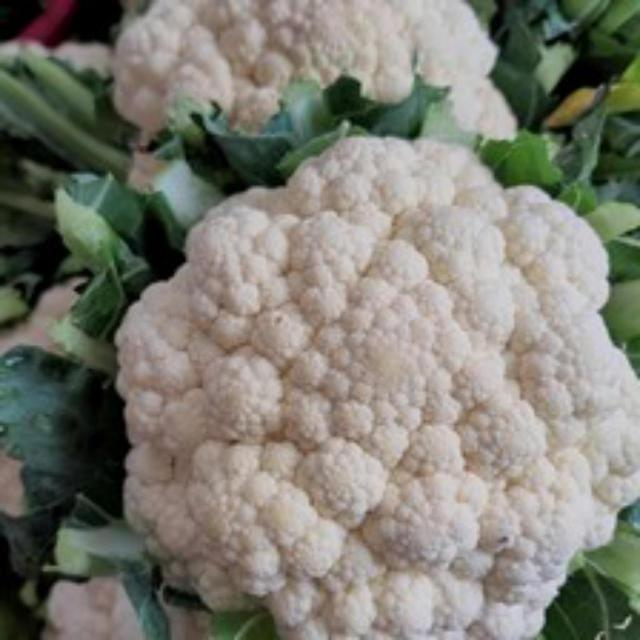cauliflower: (106, 120, 636, 637)
